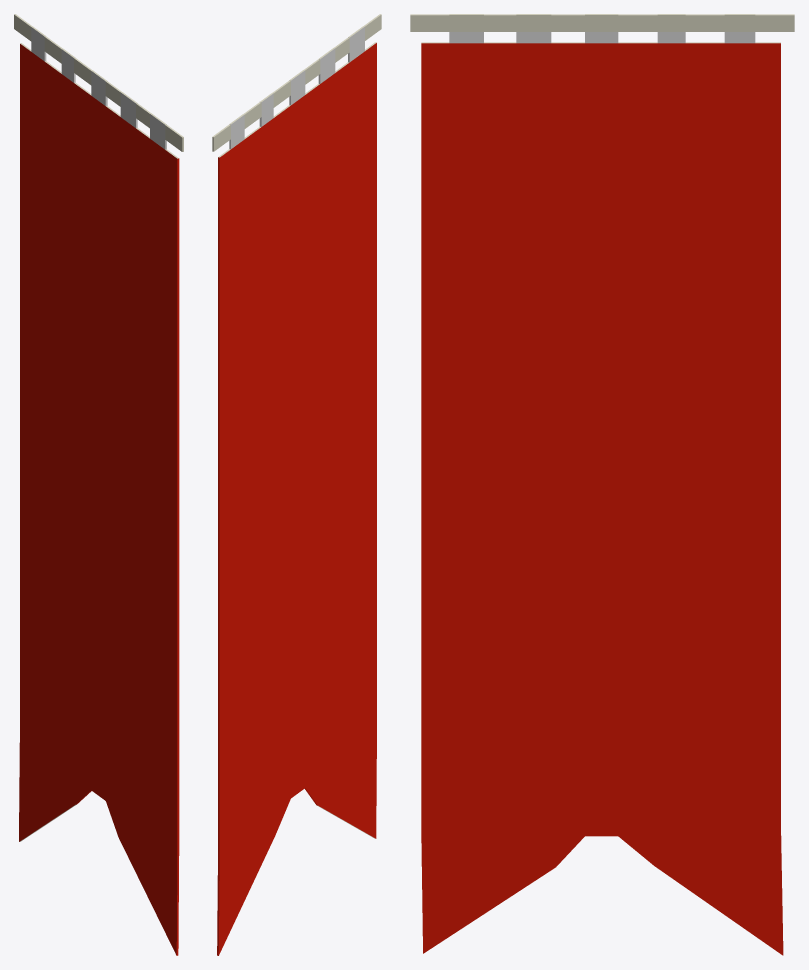
File: banner.fbx
The picture shows the model from 3 angles, left to right: view 1: azimuth 30°, elevation 25°; view 2: azimuth 150°, elevation 25°; view 3: azimuth 270°, elevation 25°; orthographic projection. The views are drawn at different scales.
Visible parts, largest first — view 1: Cube; view 2: Cube; view 3: Cube.
Part boxes in pixels (box(x1,y1,x2,y2)): Cube: box(14, 14, 183, 955); Cube: box(212, 14, 381, 955); Cube: box(410, 14, 794, 955).
Bounding box in the file's own units: 0.7362 × 337 × 125.
